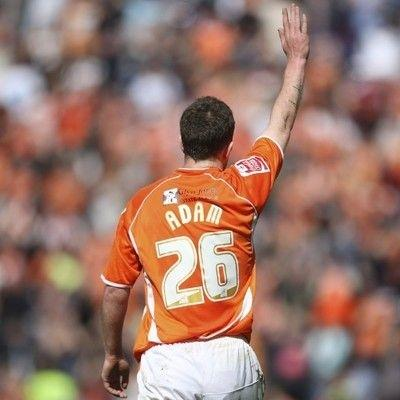person: (100, 5, 309, 400)
